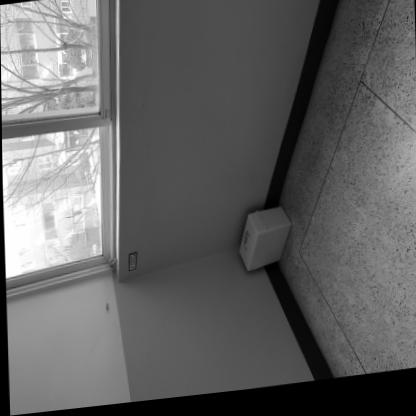DDL: (237, 210, 291, 276)
